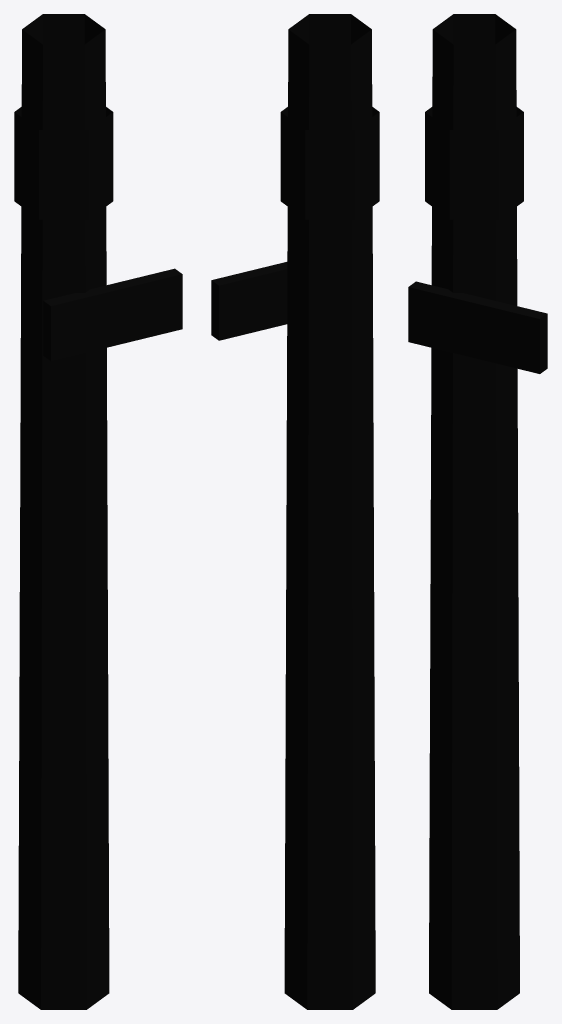
The model's file is SM_trail_marker.fbx.
3 views of the same model, side by side, from view 1: azimuth 30°, elevation 25°; view 2: azimuth 210°, elevation 25°; view 3: azimuth 330°, elevation 25° (orthographic).
Visible parts, largest first — view 1: trail_marker; view 2: trail_marker; view 3: trail_marker.
Part boxes in pixels (x1=…): trail_marker: x1=14, y1=14, x2=182, y2=1009; trail_marker: x1=211, y1=14, x2=379, y2=1009; trail_marker: x1=408, y1=14, x2=547, y2=1009.
Bounding box in the file's own units: 0.2 × 1.4 × 0.135.
